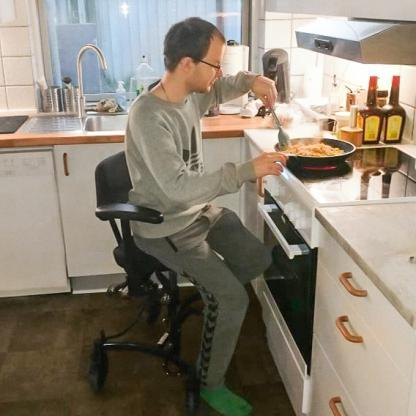chair: (78, 157, 182, 407)
